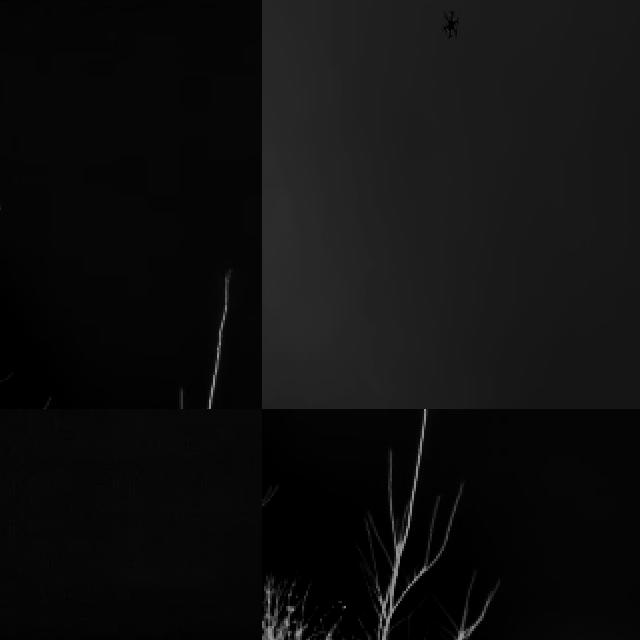0: (0, 195, 15, 225)
drone: (438, 4, 463, 40)
